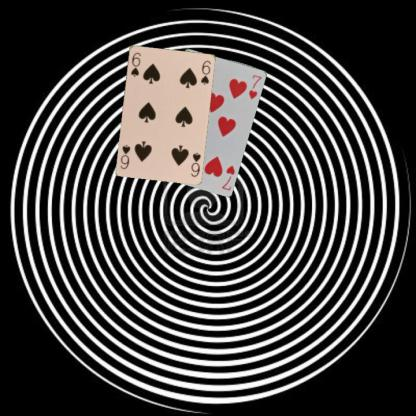6s: (128, 50, 142, 78), (188, 150, 202, 178)
7h: (219, 162, 236, 192)
